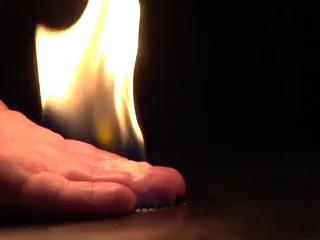Fire: (53, 8, 144, 161)
